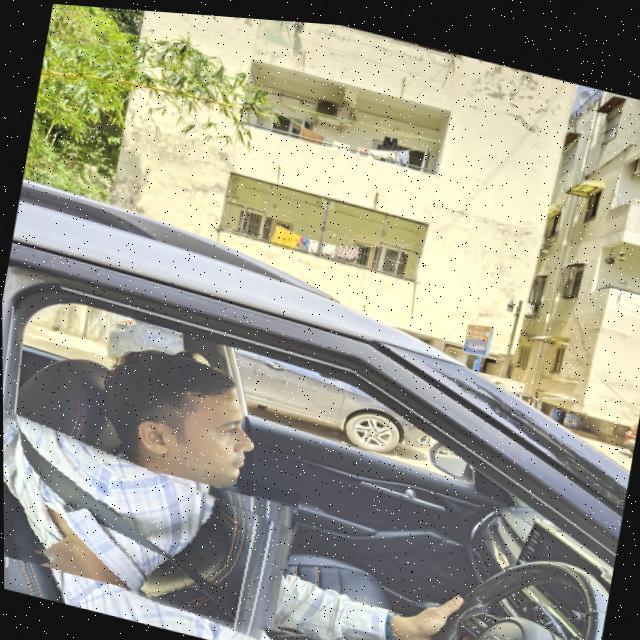seatbelt: (2, 414, 299, 629)
